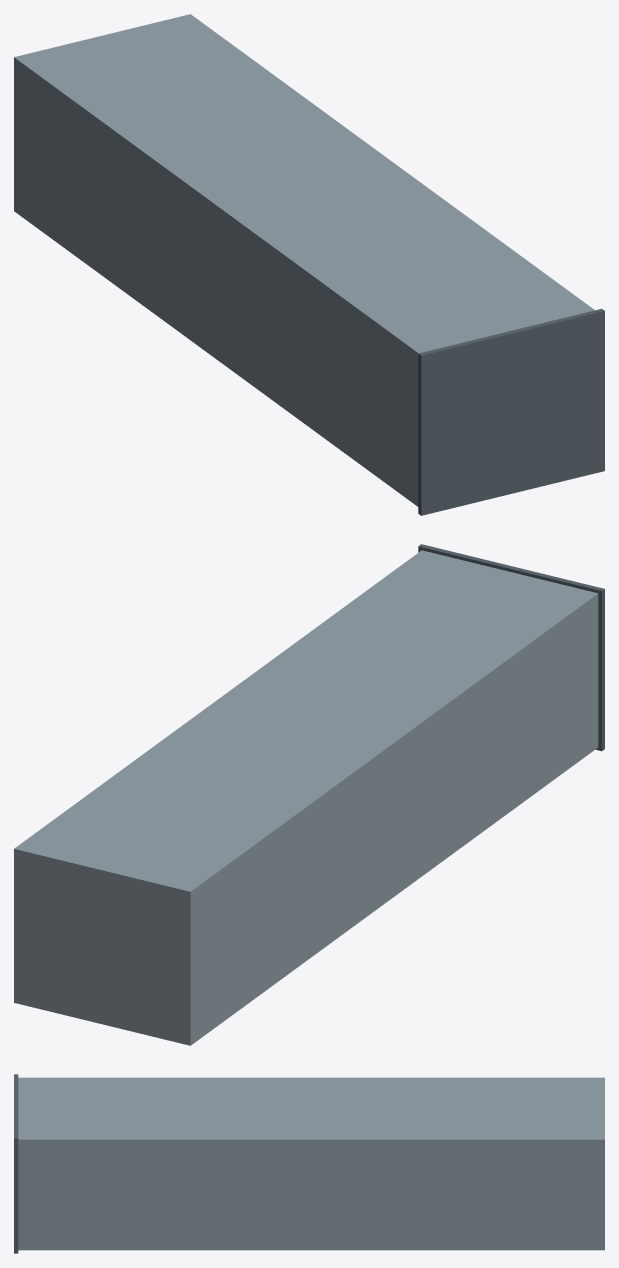
The model's file is skyscraper_03.glb.
3 views of the same model, one above another, from view 1: azimuth 30°, elevation 25°; view 2: azimuth 150°, elevation 25°; view 3: azimuth 270°, elevation 25° (orthographic). The views are drawn at different scales.
Parts seen in each view (by area): view 1: main, roof; view 2: main, roof; view 3: main, roof.
Part boxes in pixels (x1,y1,x2,y2): main: [14, 14, 594, 506]; roof: [418, 308, 604, 515]; main: [14, 550, 598, 1045]; roof: [418, 544, 604, 751]; main: [18, 1077, 604, 1250]; roof: [14, 1074, 18, 1253].
Bounding box in the file's own units: 6.24 × 5.2 × 24.18.
